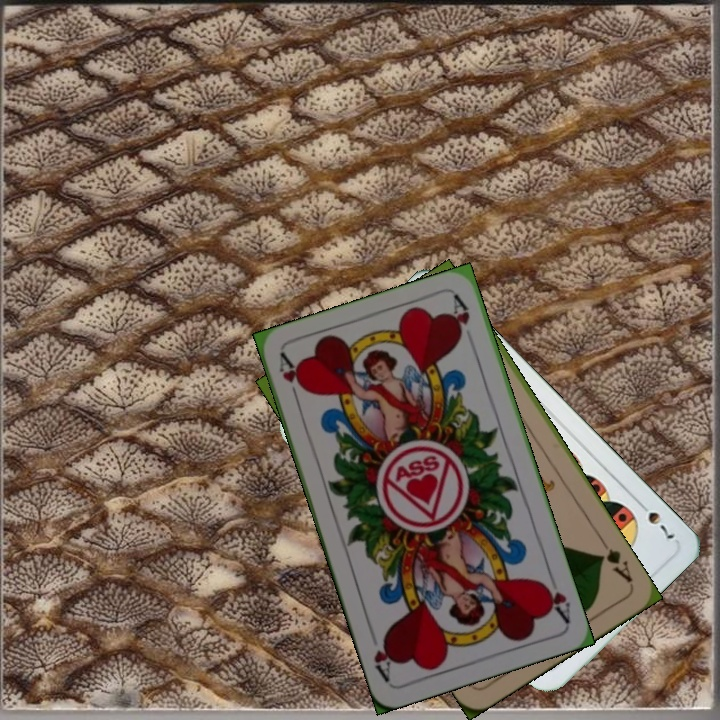GA: (594, 535, 636, 585)
HA: (537, 568, 573, 625), (275, 350, 308, 408)
S7: (633, 496, 677, 542)
